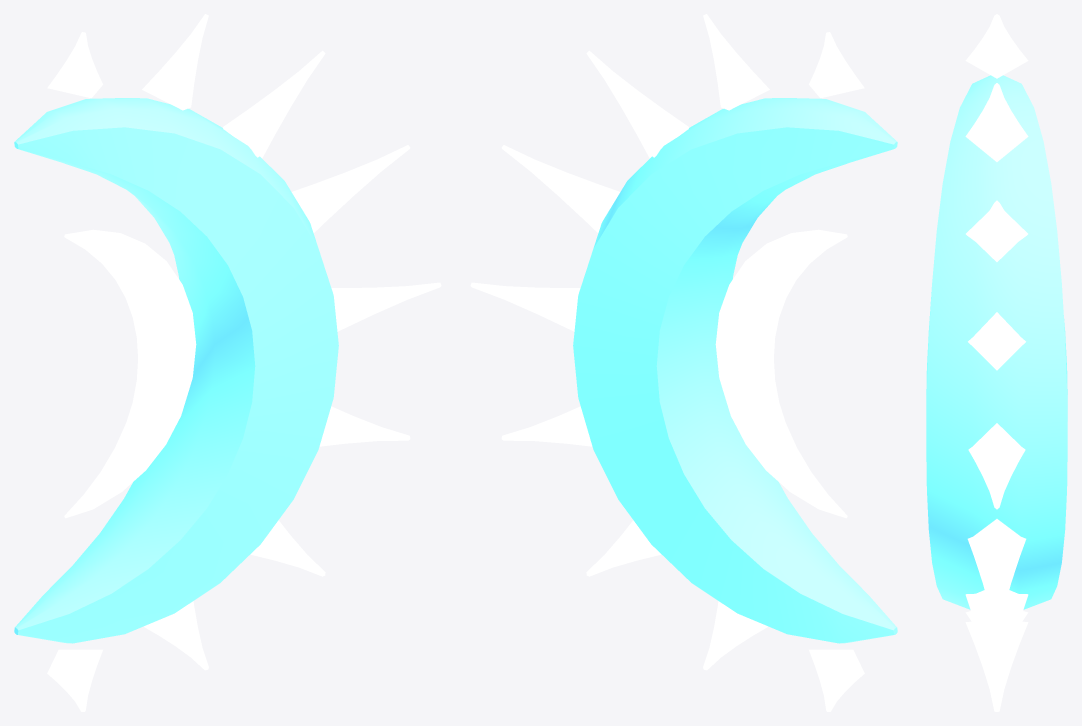
Rendered from fx_shockcres.glb.
3 views of the same model, side by side, from view 1: azimuth 30°, elevation 25°; view 2: azimuth 150°, elevation 25°; view 3: azimuth 270°, elevation 25° (orthographic). The views are drawn at different scales.
Visible parts, largest first — view 1: shockwave-crescent; view 2: shockwave-crescent; view 3: shockwave-crescent.
Part boxes in pixels (x1,y1,x2,y2): shockwave-crescent: (14, 14, 441, 711); shockwave-crescent: (470, 14, 897, 711); shockwave-crescent: (926, 14, 1067, 711).
Size of the model in its own units: 0.7299 by 1.12 by 0.22.
